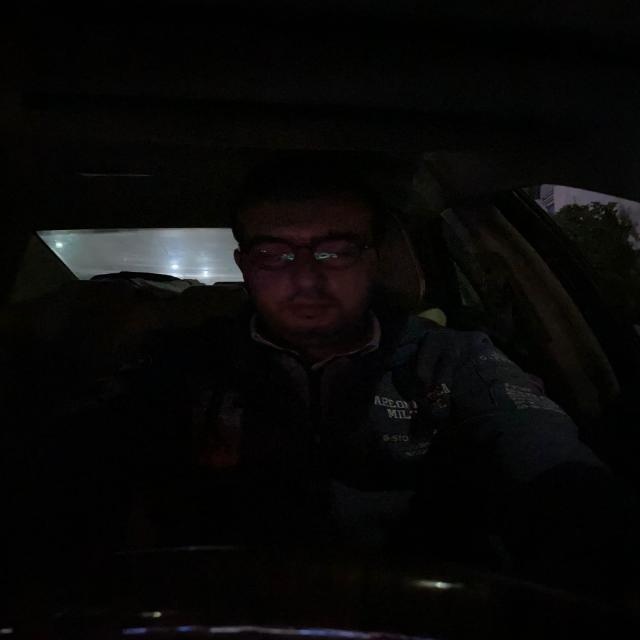drowsy: (220, 162, 409, 342)
